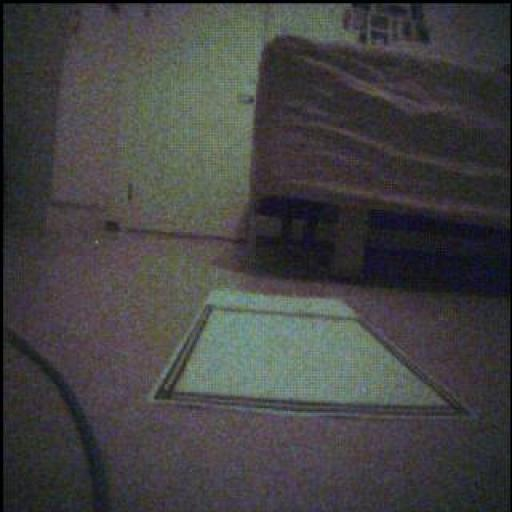pad: (152, 291, 469, 417)
